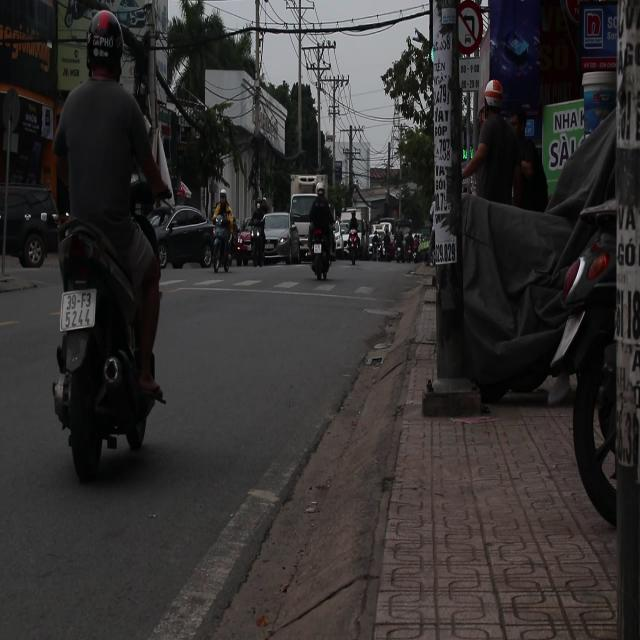car: (2, 185, 60, 268), (149, 204, 215, 269), (262, 212, 301, 264)
motorbike: (543, 102, 637, 579), (53, 210, 164, 475), (310, 238, 330, 283), (370, 233, 386, 260)
